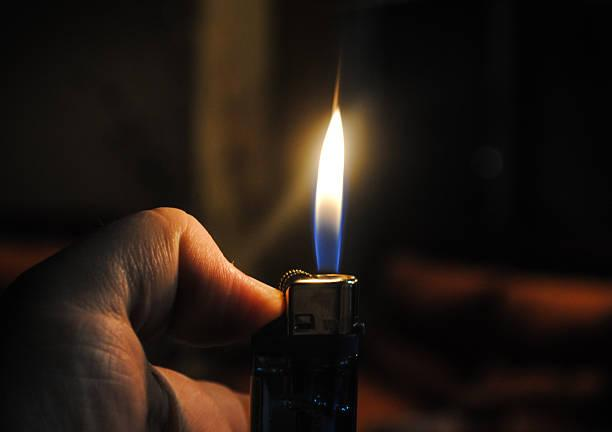Fire: (311, 52, 348, 272)
